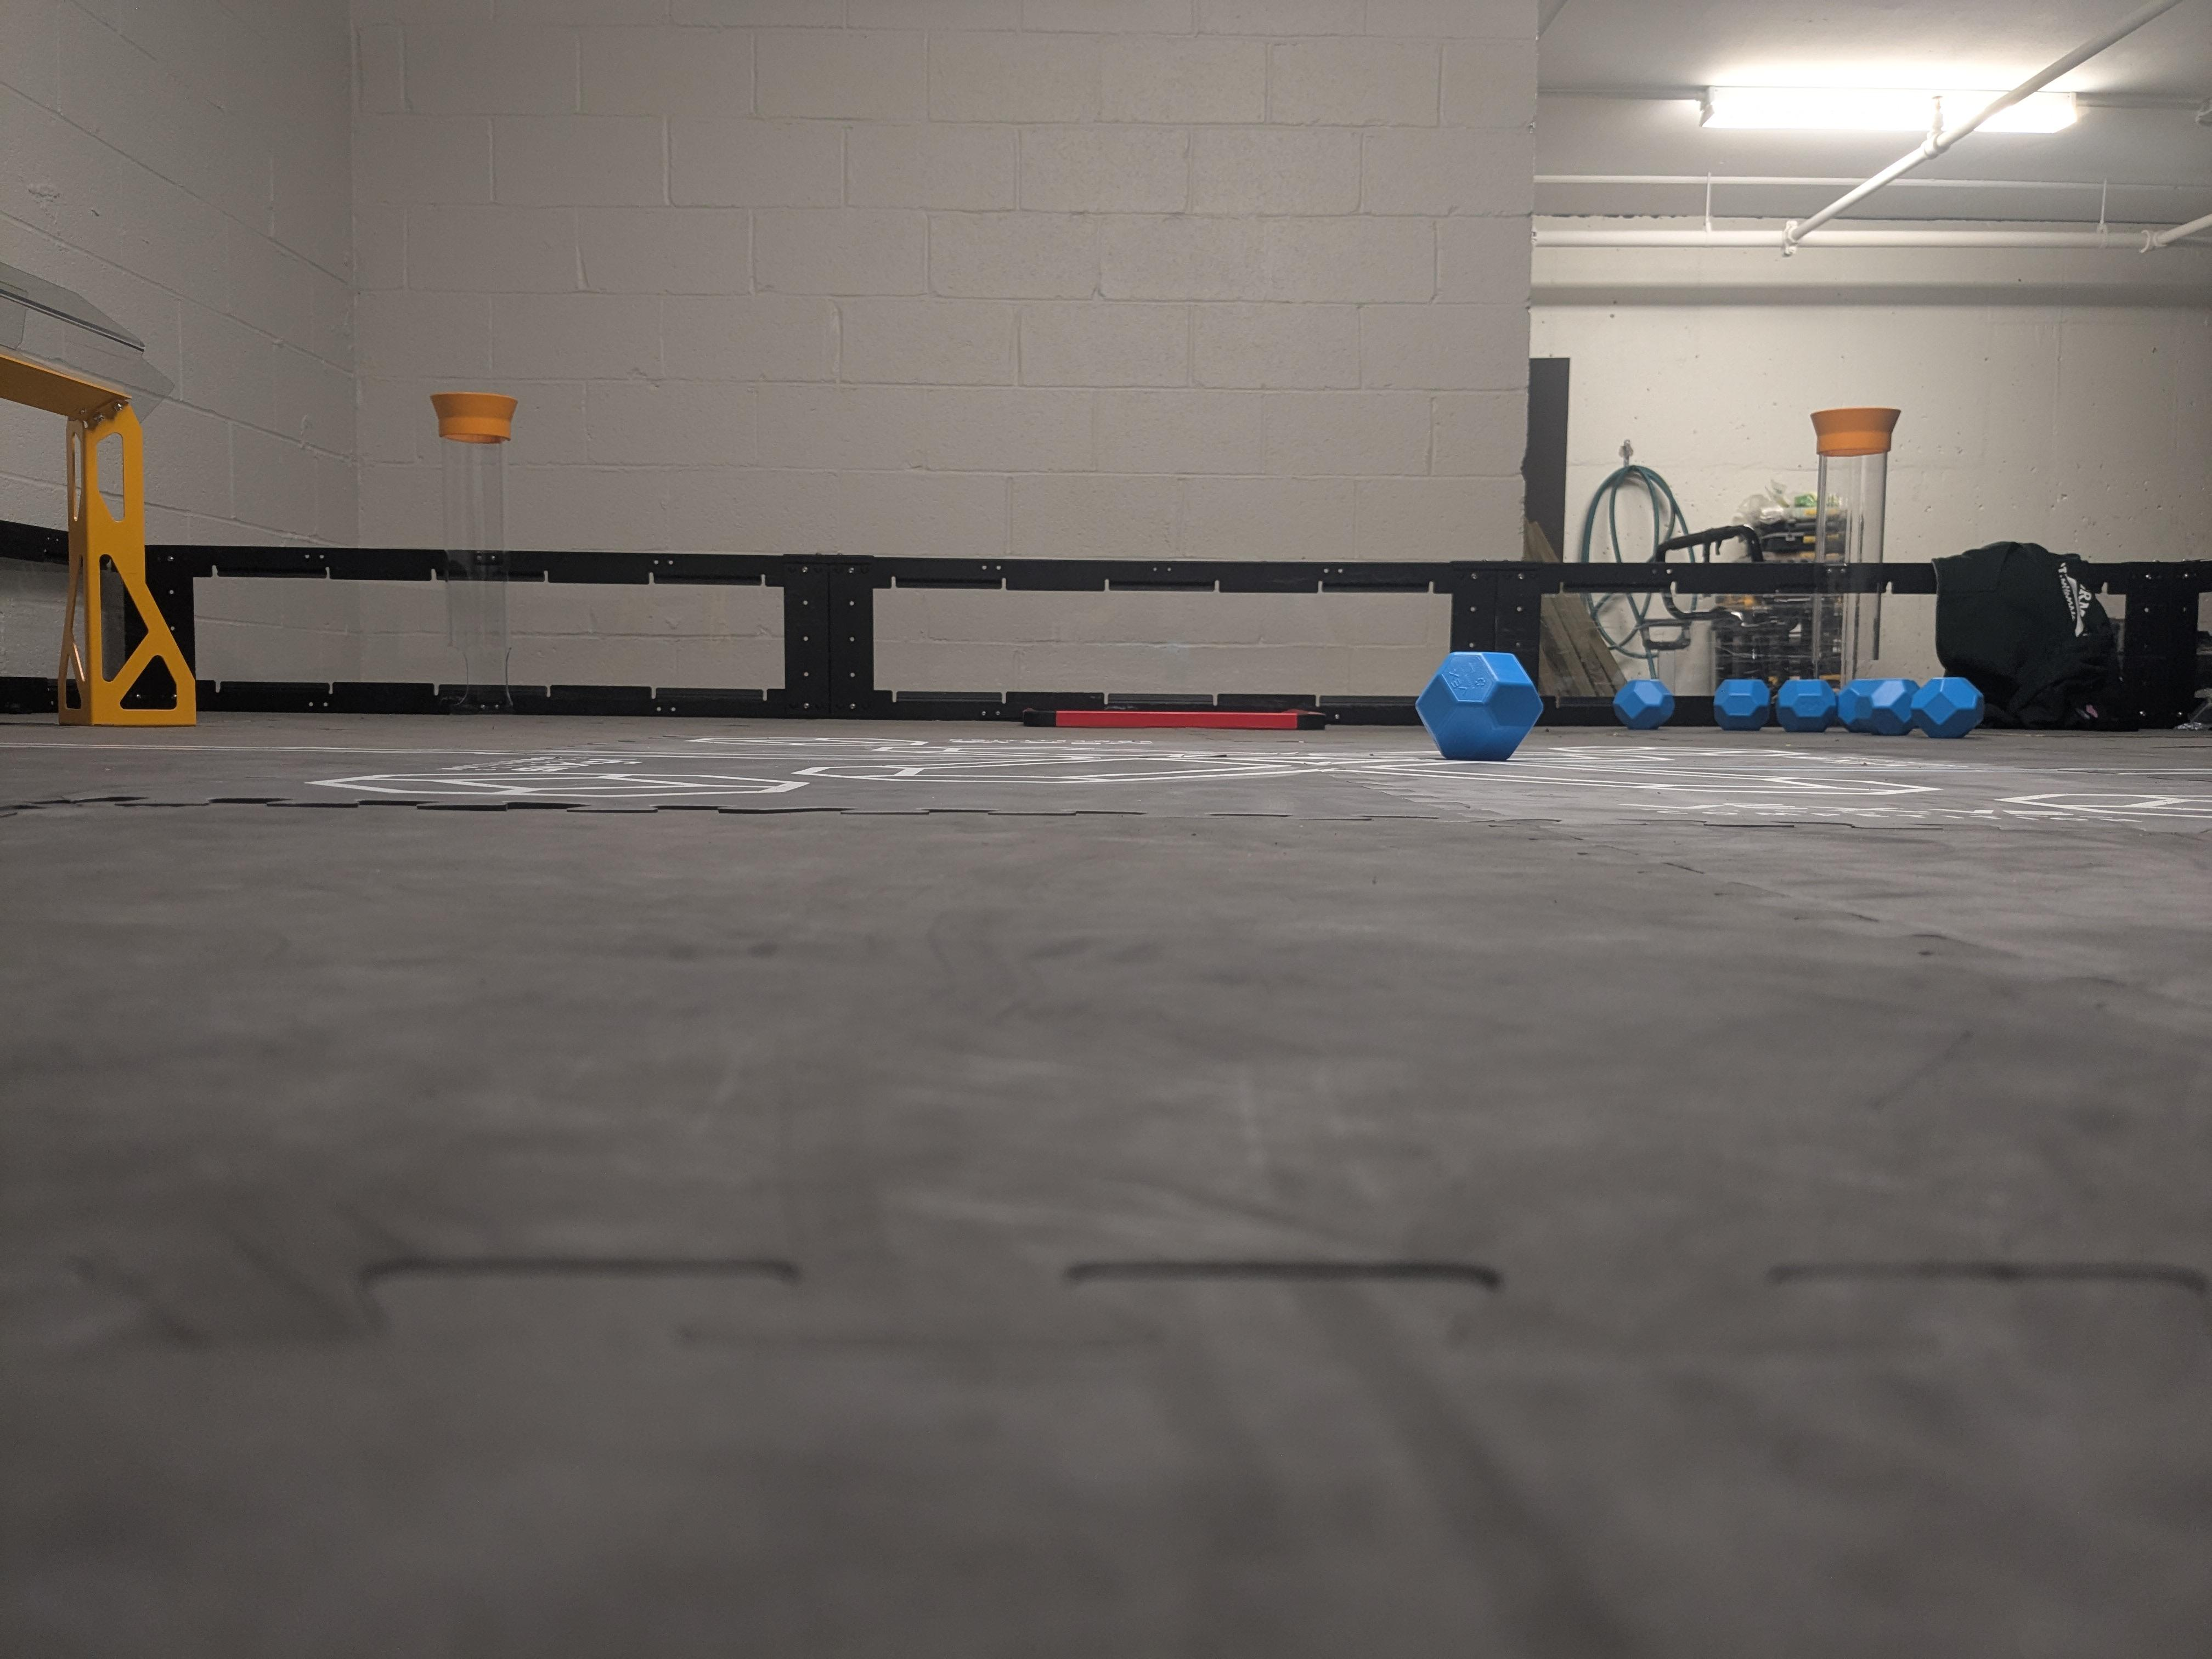Vex-Pieces-BLUE: (1416, 650, 1545, 755), (1838, 678, 1918, 735), (1911, 676, 1984, 739), (1775, 678, 1836, 732), (1611, 680, 1674, 728), (1714, 678, 1771, 730)
